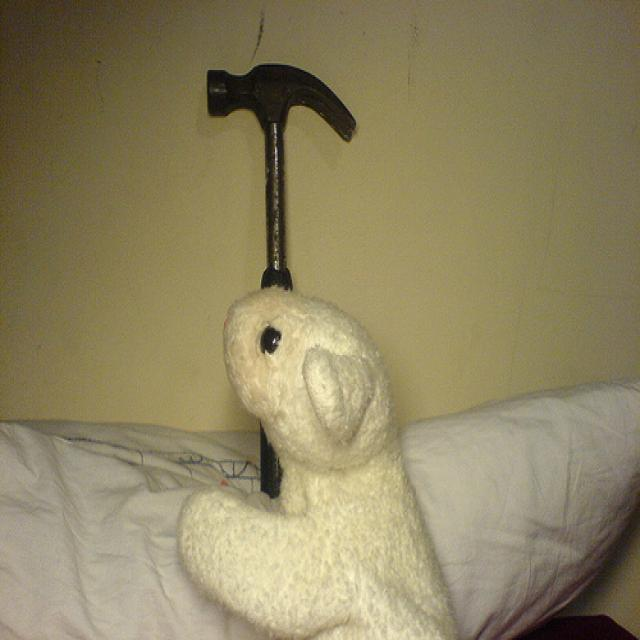hammer: (192, 36, 375, 262)
